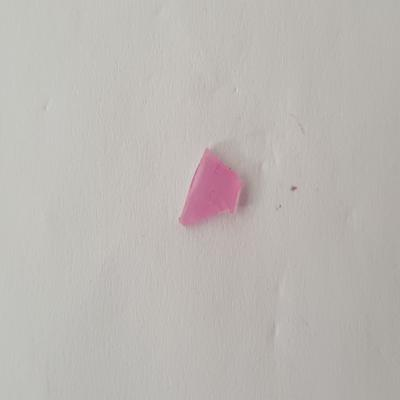plastic: (175, 145, 249, 234)
